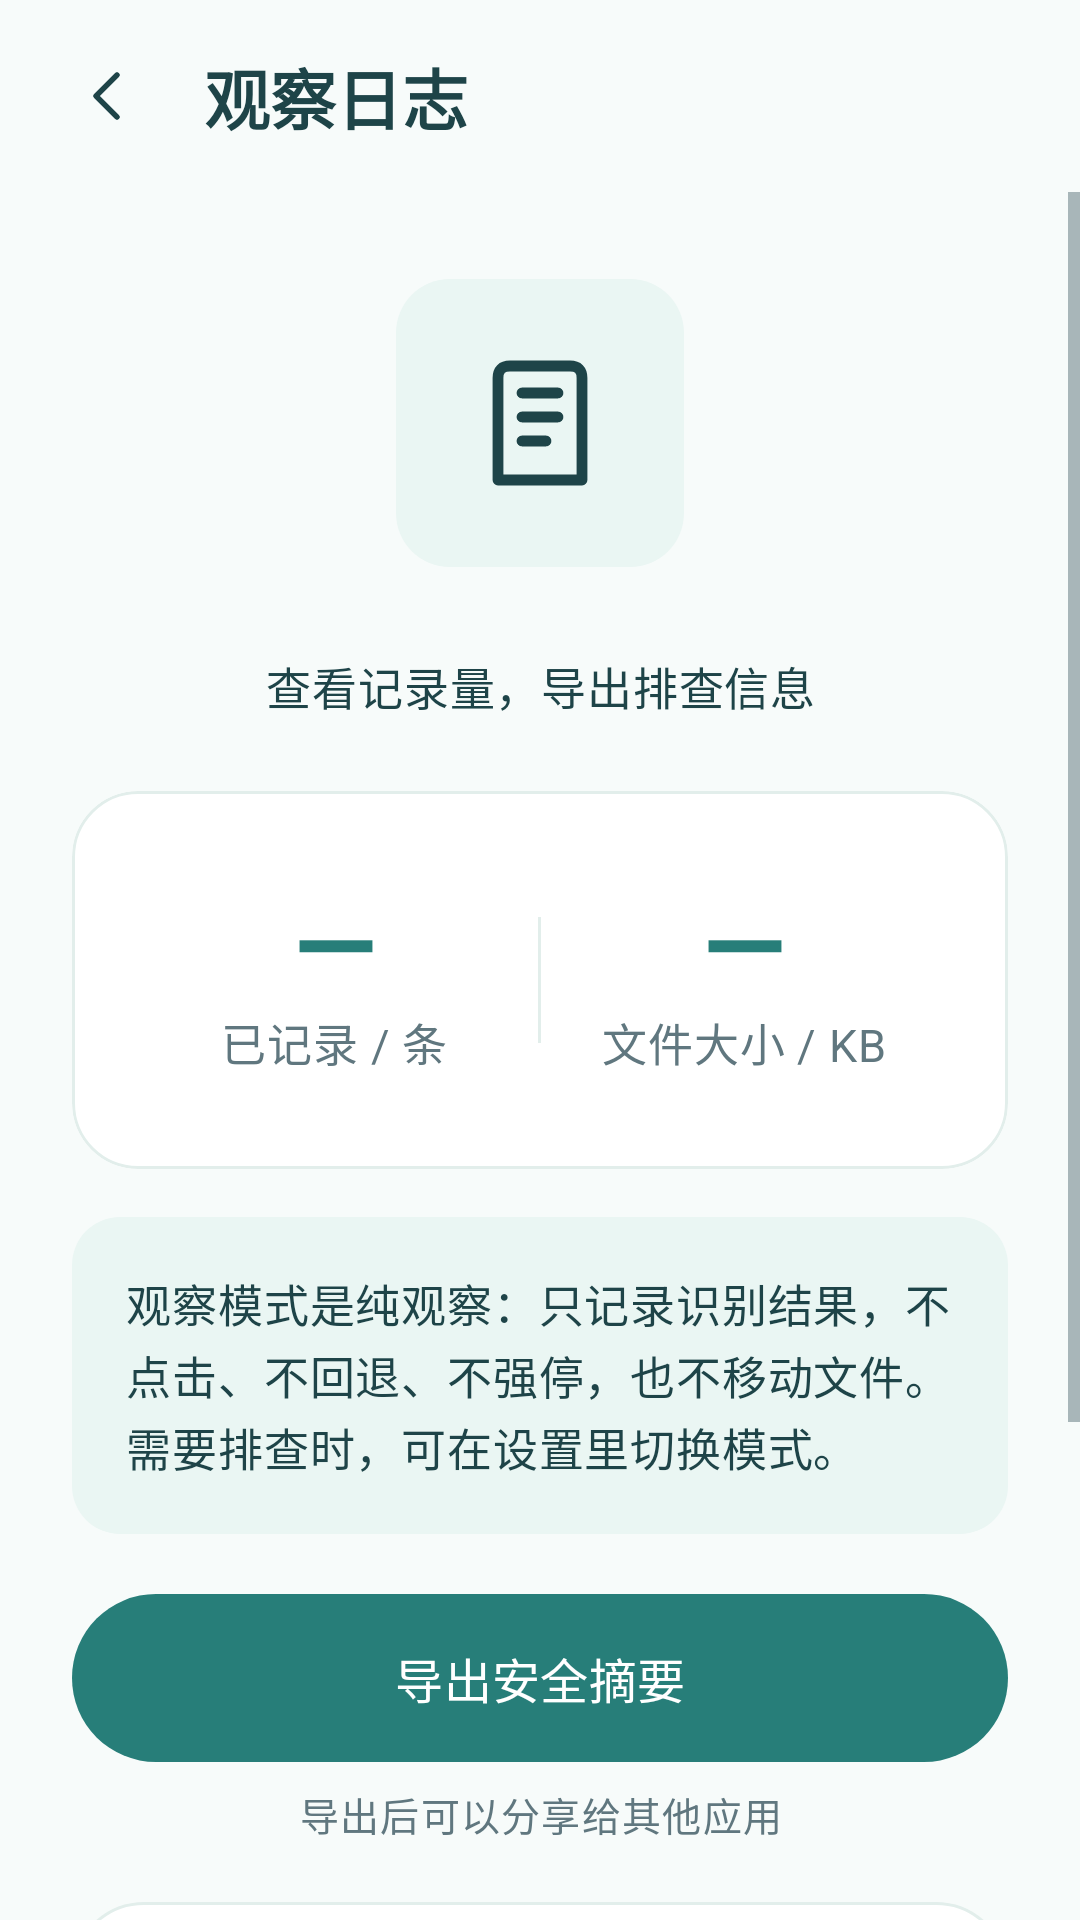

Point at icon controls on the screen. Image size 1080×1920, points as point (x, y).
calm log: point (540, 423)
返回设置: point (106, 96)
